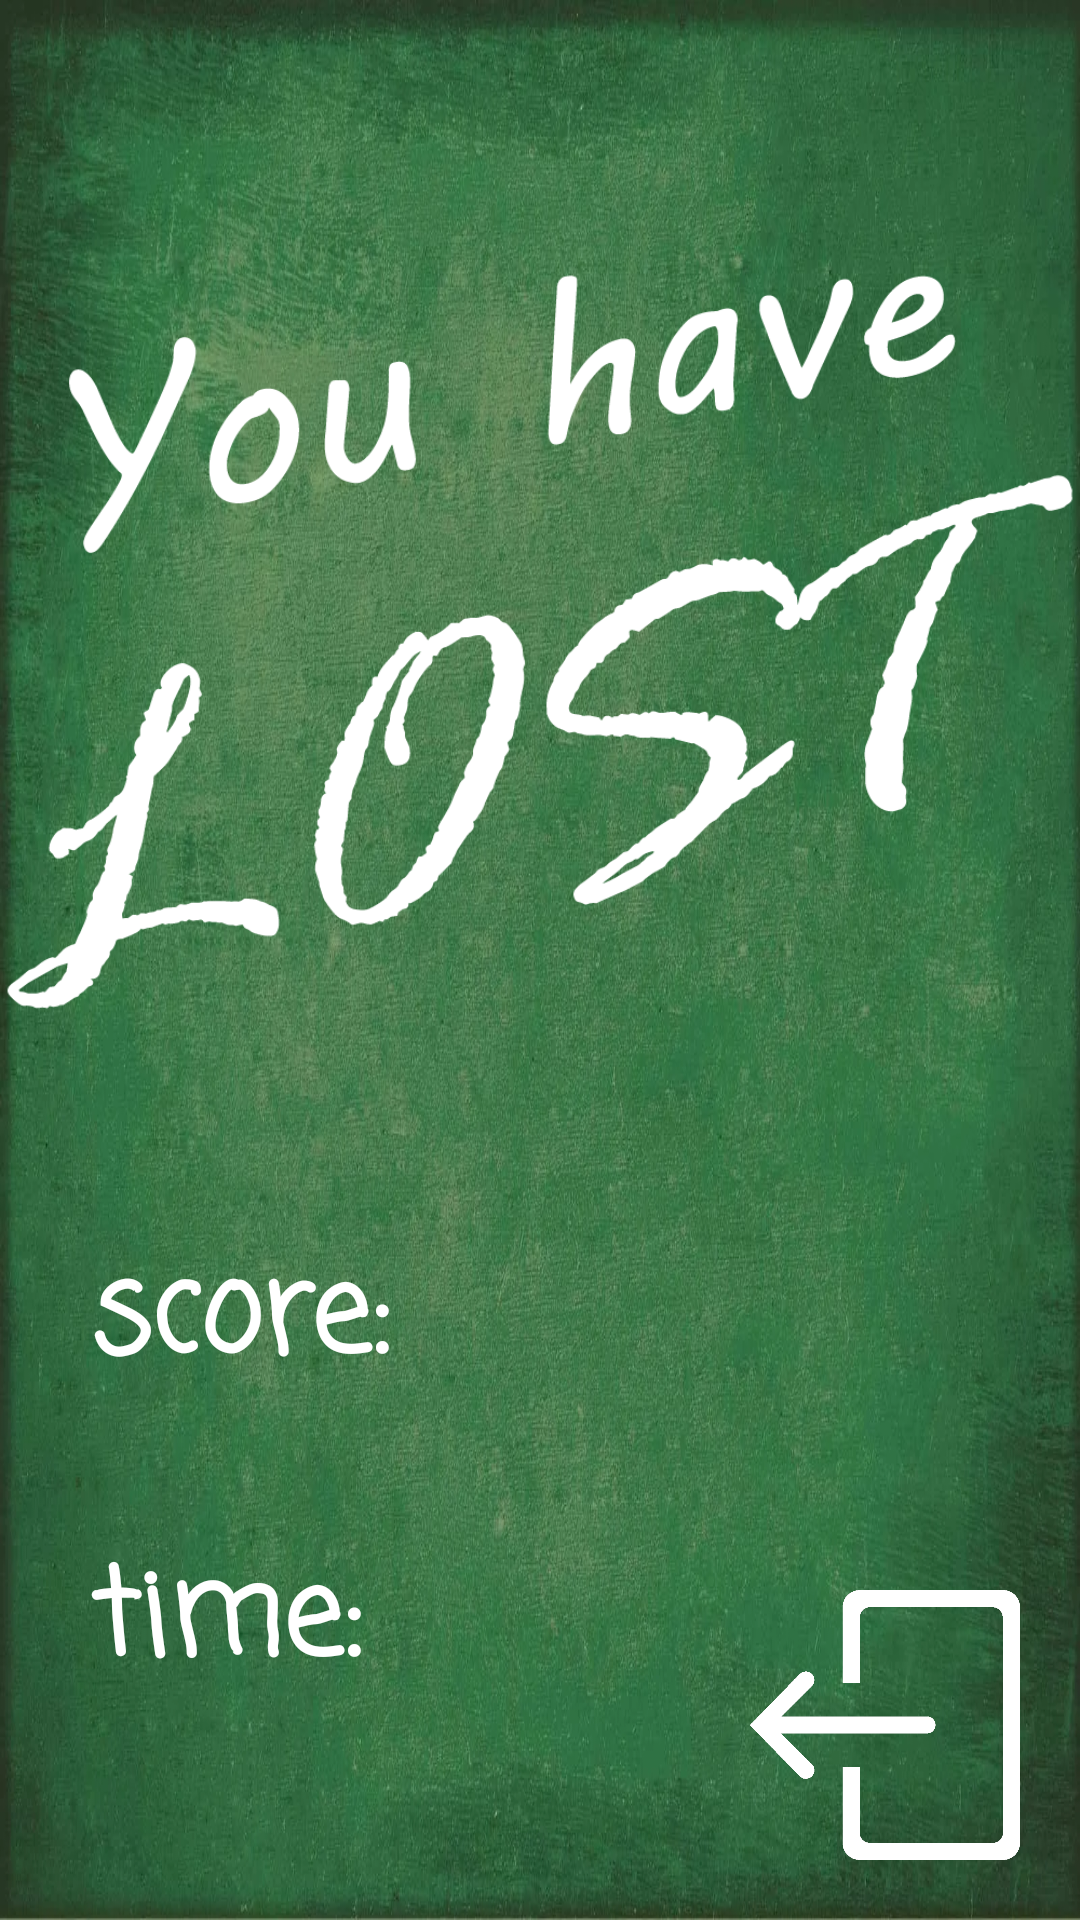

Point at icon controls on the screen. Image size 1080 x 1920, points as point (x, y).
exit: point (885, 1725)
